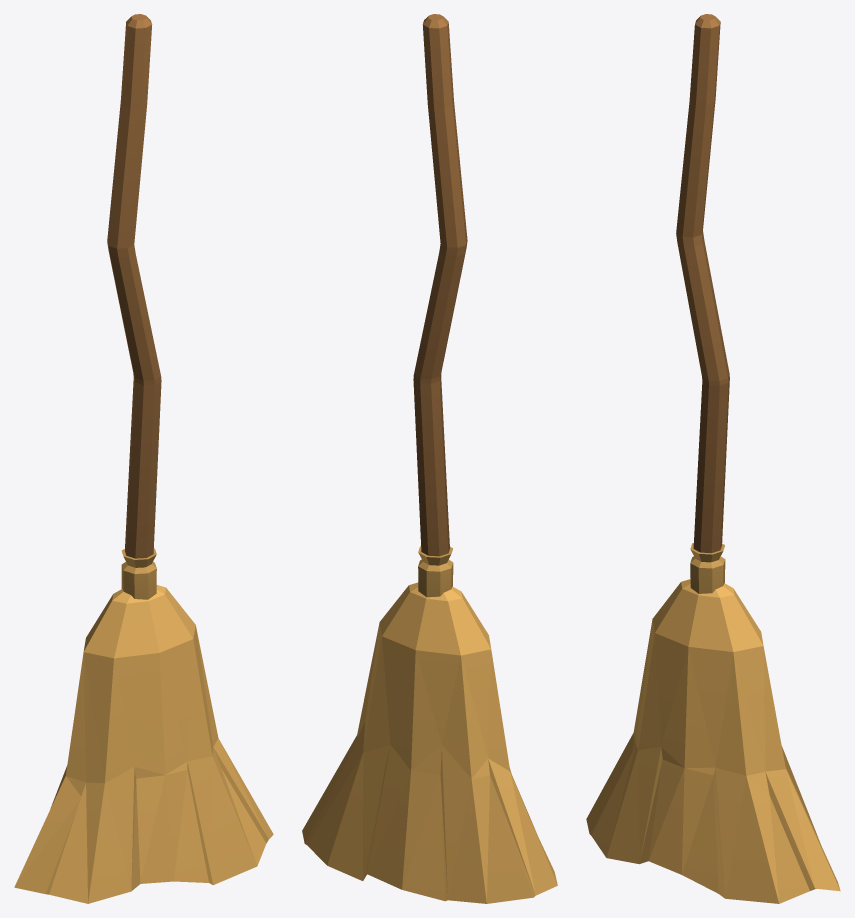
Rendered from Tool_Broom_02.obj.
3 views of the same model, side by side, from view 1: azimuth 30°, elevation 25°; view 2: azimuth 150°, elevation 25°; view 3: azimuth 330°, elevation 25° (orthographic).
Parts seen in each view (by area): view 1: Tool_Broom_02; view 2: Tool_Broom_02; view 3: Tool_Broom_02.
Boxes of the visible parts, x1,y1,x2,y2 form: Tool_Broom_02: [14, 14, 273, 903]; Tool_Broom_02: [302, 14, 557, 903]; Tool_Broom_02: [586, 14, 840, 903].
Bounding box in the file's own units: 0.5376 × 1.71 × 0.2253.
Materials: 1 (1 with a texture image).
